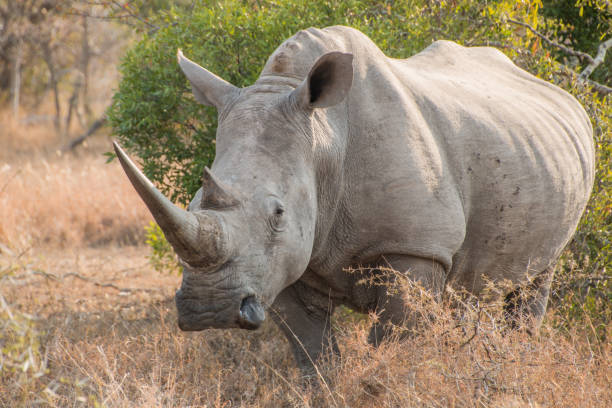rhino: (89, 41, 368, 342)
